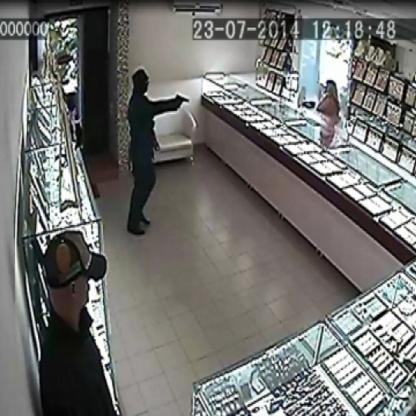pistols: (173, 94, 193, 114)
